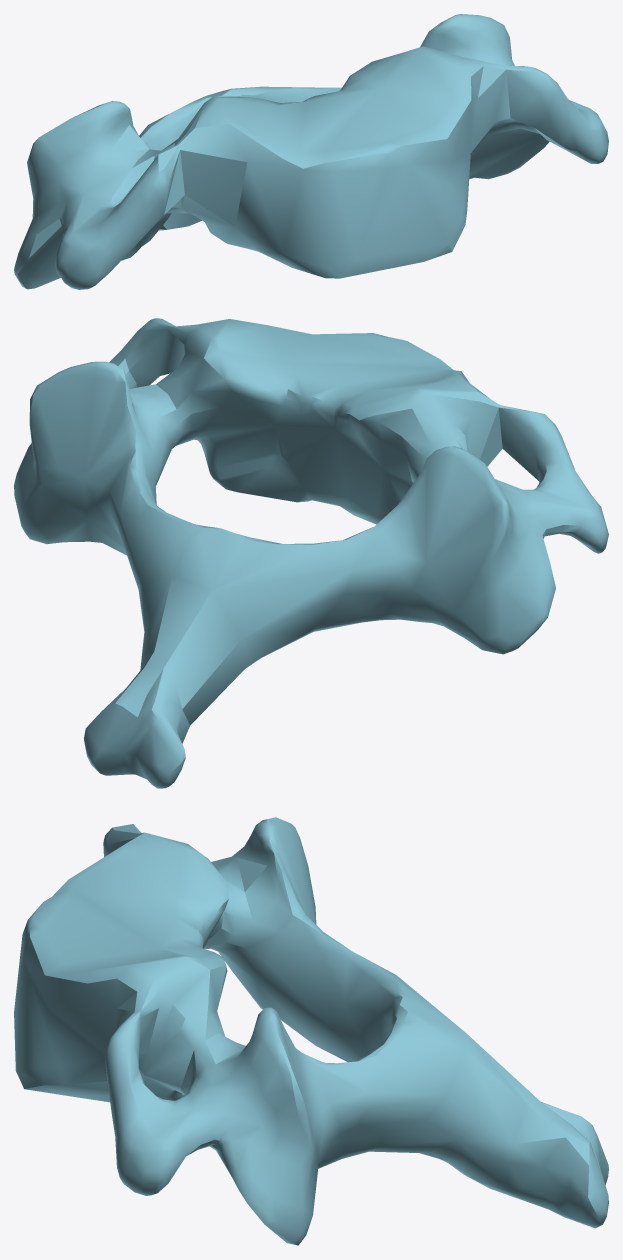
3 views of the same model, one above another, from view 1: azimuth 30°, elevation 25°; view 2: azimuth 150°, elevation 25°; view 3: azimuth 270°, elevation 25° (orthographic). The views are drawn at different scales.
Parts seen in each view (by area): view 1: grp1; view 2: grp1; view 3: grp1.
Boxes of the visible parts, bbox=[...] form: grp1: bbox=[14, 14, 608, 289]; grp1: bbox=[14, 318, 608, 788]; grp1: bbox=[14, 817, 608, 1245].
Size of the model in its own units: 0.0584 by 0.0287 by 0.0497.
